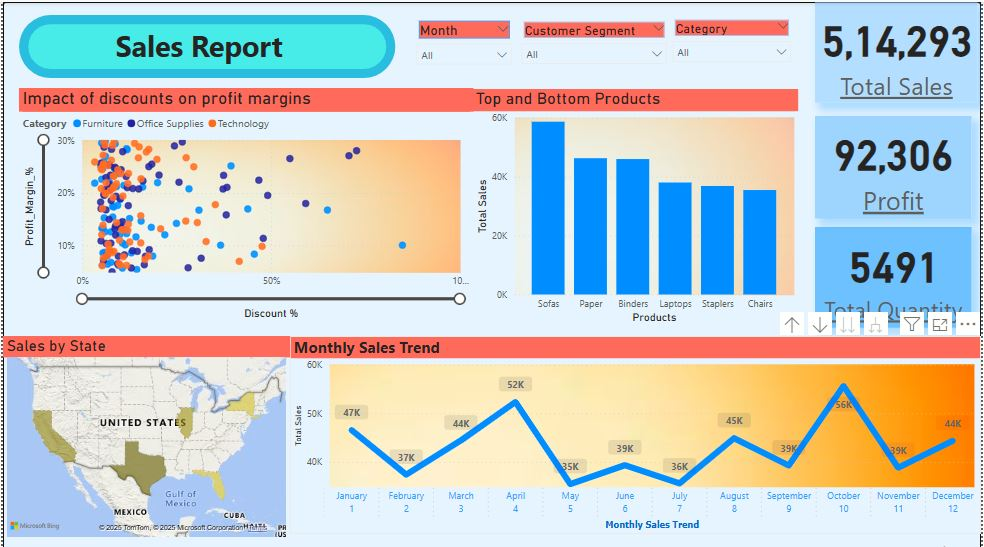

What the dashboard file says about the page in this screenshot:
{"tool":"powerbi","page":{"name":"Report Page","canvas":[1280,720],"ordinal":0},"visuals":[{"type":"card","fields":{"Values":["StoreSalesData.Total Sales"]},"box":[1062.5,0,213.3,132.1],"z":0},{"type":"slicer","fields":{"Values":["StoreSalesData.Order Date.Variation.Date Hierarchy.Month"]},"box":[531.3,19.8,144.5,68.8],"z":0,"group":"g1"},{"type":"card","fields":{"Values":["Sum(StoreSalesData.Profit)"]},"box":[1062.5,148.6,205.1,133.5],"z":1000},{"type":"slicer","fields":{"Values":["StoreSalesData.Customer Segment"]},"box":[668.2,21.1,210,60],"z":2000,"group":"g1"},{"type":"card","fields":{"Values":["Sum(StoreSalesData.Quantity)"]},"box":[1062.5,294.5,205.1,132.1],"z":2000},{"type":"shape","box":[20.6,16.5,492.7,82.6],"z":3000},{"type":"slicer","fields":{"Values":["StoreSalesData.Category"]},"box":[866.2,17.9,175.3,59.9],"z":3000,"group":"g1"},{"type":"textbox","box":[0,27.5,513.4,71.6],"z":4000},{"type":"lineChart","title":"Monthly Sales Trend","fields":{"Y":["StoreSalesData.Total Sales"],"Category":["StoreSalesData.Monthnumber","StoreSalesData.Monthlyname"]},"box":[375.7,437.7,904.3,258.8],"z":5000},{"type":"filledMap","title":"Sales by State","fields":{"Category":["StoreSalesData.State"]},"box":[0,437.7,375.7,268.4],"z":6000},{"type":"clusteredColumnChart","title":"Top and Bottom Products","fields":{"Y":["StoreSalesData.Total Sales"],"Category":["StoreSalesData.Sub-Category"]},"box":[614,114,426.7,312],"z":7000},{"type":"scatterChart","title":"Impact of discounts on profit margins","fields":{"Y":["StoreSalesData.Profit_Margin_%"],"X":["StoreSalesData.Discount %"],"Series":["StoreSalesData.Category"]},"box":[20.6,112.9,594.6,308],"z":8000},{"type":"group","id":"g1","title":"Group 1","box":[531.3,17.9,509.2,70.2],"z":8005}]}

Visuals, with their boxes in screenshot pixels (x1, y1, x2, y2), scaled from the page's 1280x720 canvas onto the 984x547 screenshot:
card - StoreSalesData.Total Sales: Rect(817, 0, 981, 100)
slicer - StoreSalesData.Order Date.Variation.Date Hierarchy.Month: Rect(408, 15, 520, 67)
card - Sum(StoreSalesData.Profit): Rect(817, 113, 974, 214)
slicer - StoreSalesData.Customer Segment: Rect(514, 16, 675, 62)
card - Sum(StoreSalesData.Quantity): Rect(817, 224, 974, 324)
shape: Rect(16, 13, 395, 75)
slicer - StoreSalesData.Category: Rect(666, 14, 801, 59)
textbox: Rect(0, 21, 395, 75)
"Monthly Sales Trend" lineChart: Rect(289, 333, 983, 529)
"Sales by State" filledMap: Rect(0, 333, 289, 536)
"Top and Bottom Products" clusteredColumnChart: Rect(472, 87, 800, 324)
"Impact of discounts on profit margins" scatterChart: Rect(16, 86, 473, 320)
"Group 1" group: Rect(408, 14, 800, 67)
